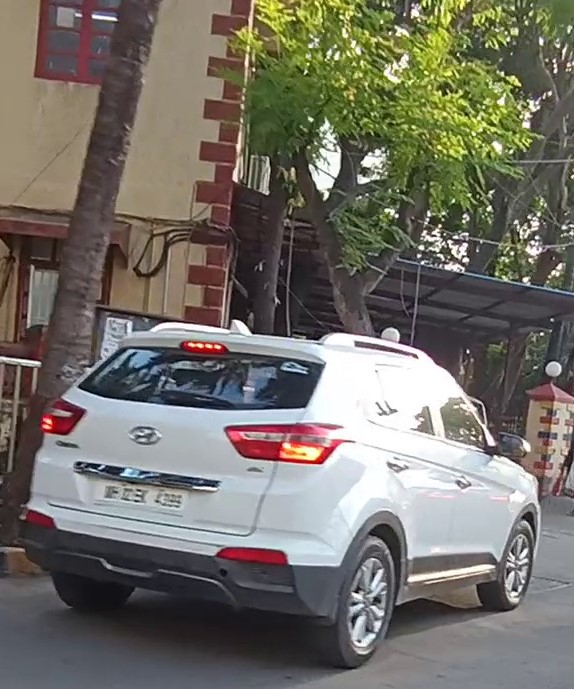MH02EK4399: (97, 477, 189, 513)
